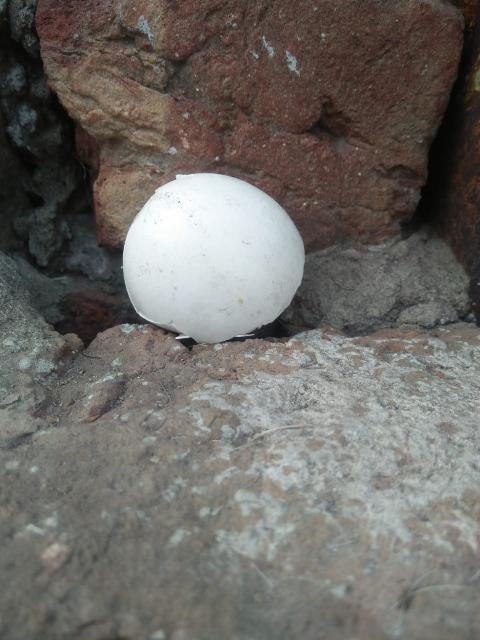Roto: (121, 171, 306, 344)
